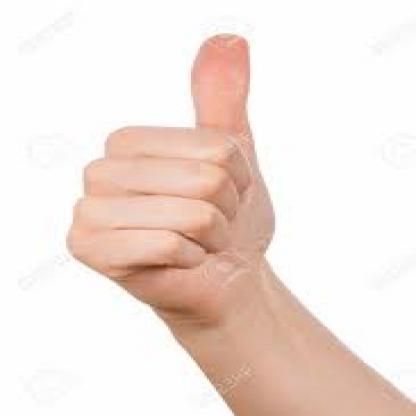thumb_up: (57, 31, 296, 299)
